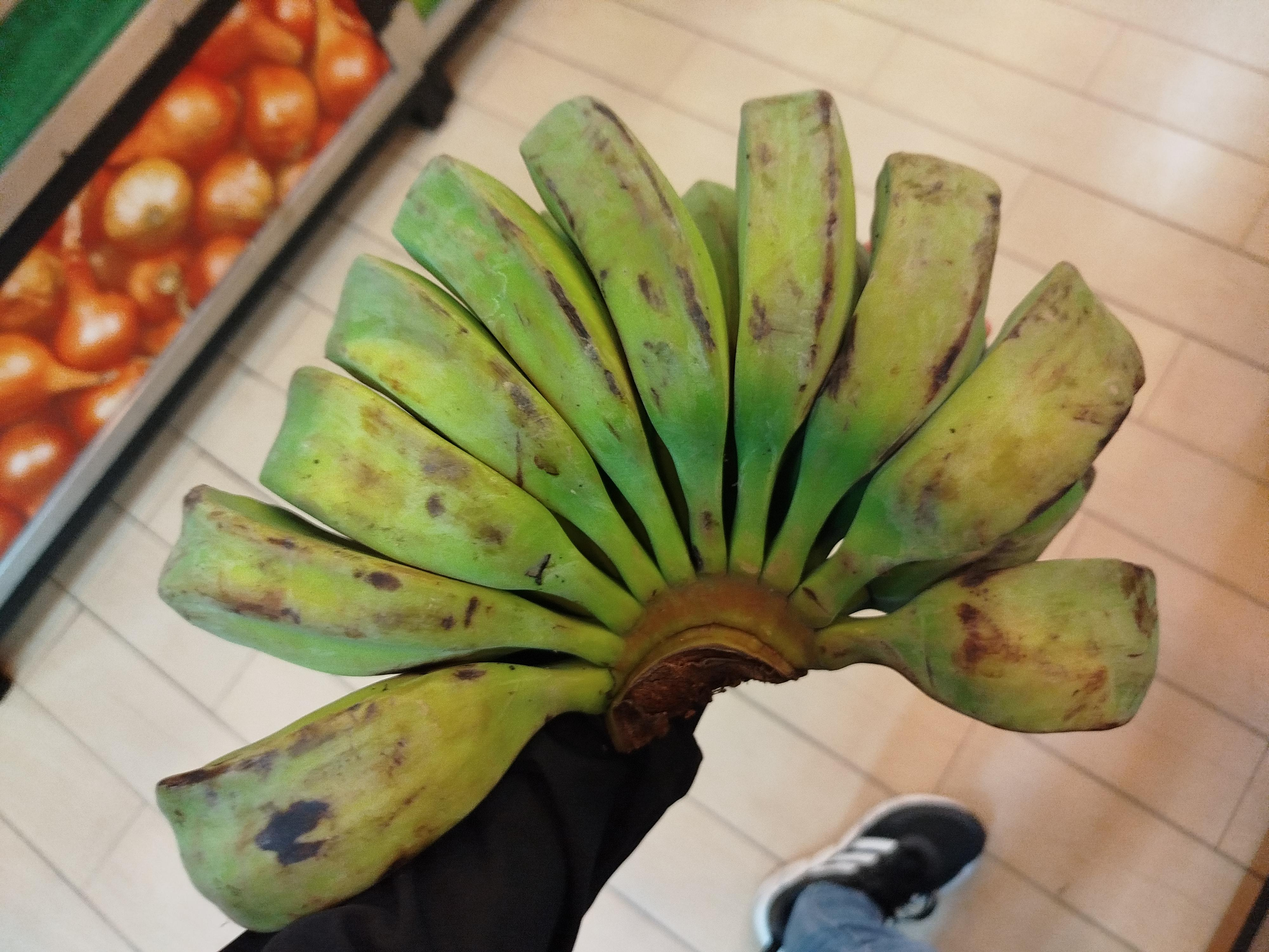underripe: (155, 90, 1156, 931)
